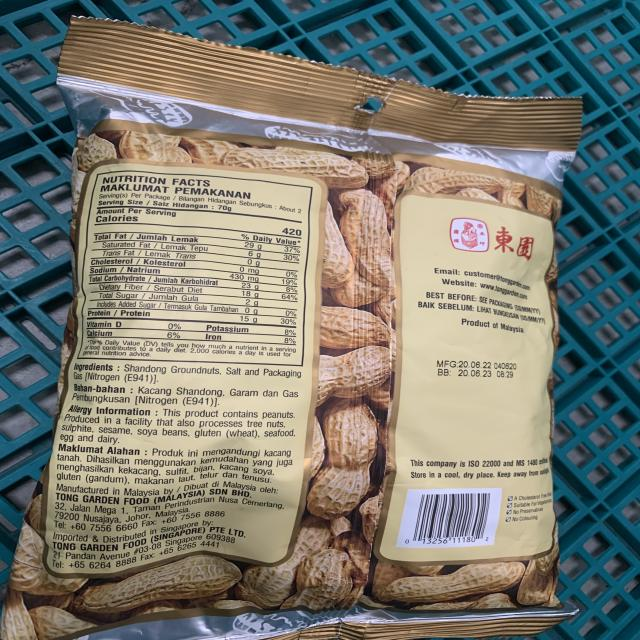object_name: (38, 38, 552, 628)
